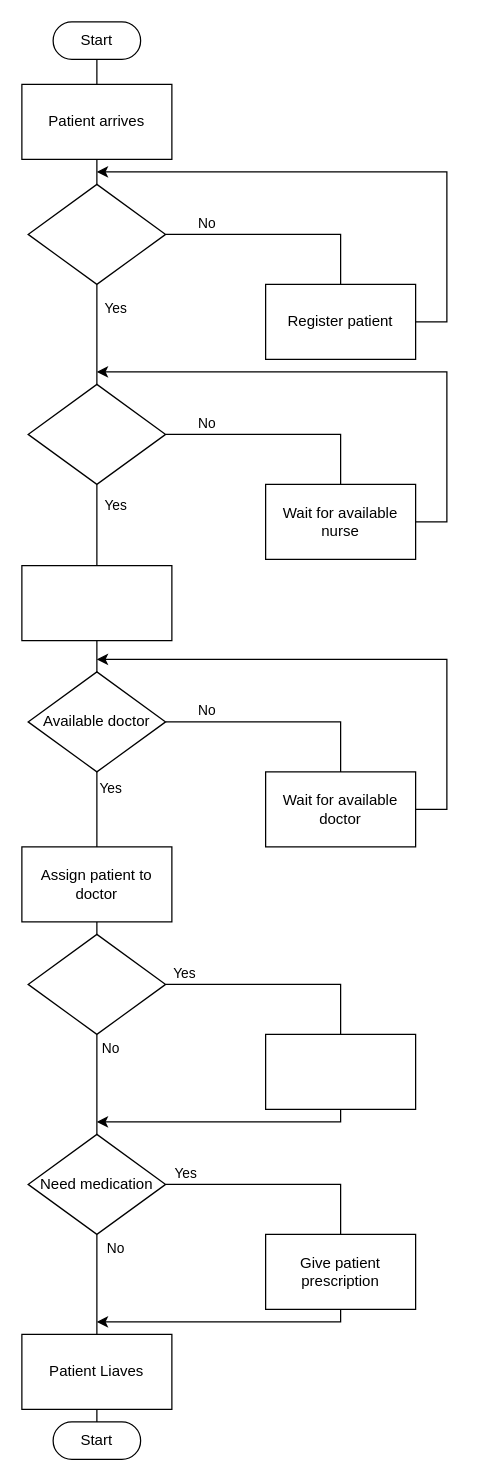
The diagram is 479 pixels wide and 1481 high, and some of its shapes have lost their labels. The shapes that lost their labels are listed below. From the top down, each one's box as (x1, y1, x2, y2) in pixels, then its label:
(27, 183, 166, 284): Registered patient
(27, 383, 166, 484): Available nurse
(21, 564, 172, 641): Record health condition
(27, 933, 166, 1034): Need follow up
(264, 1033, 416, 1109): Arrange appointment
